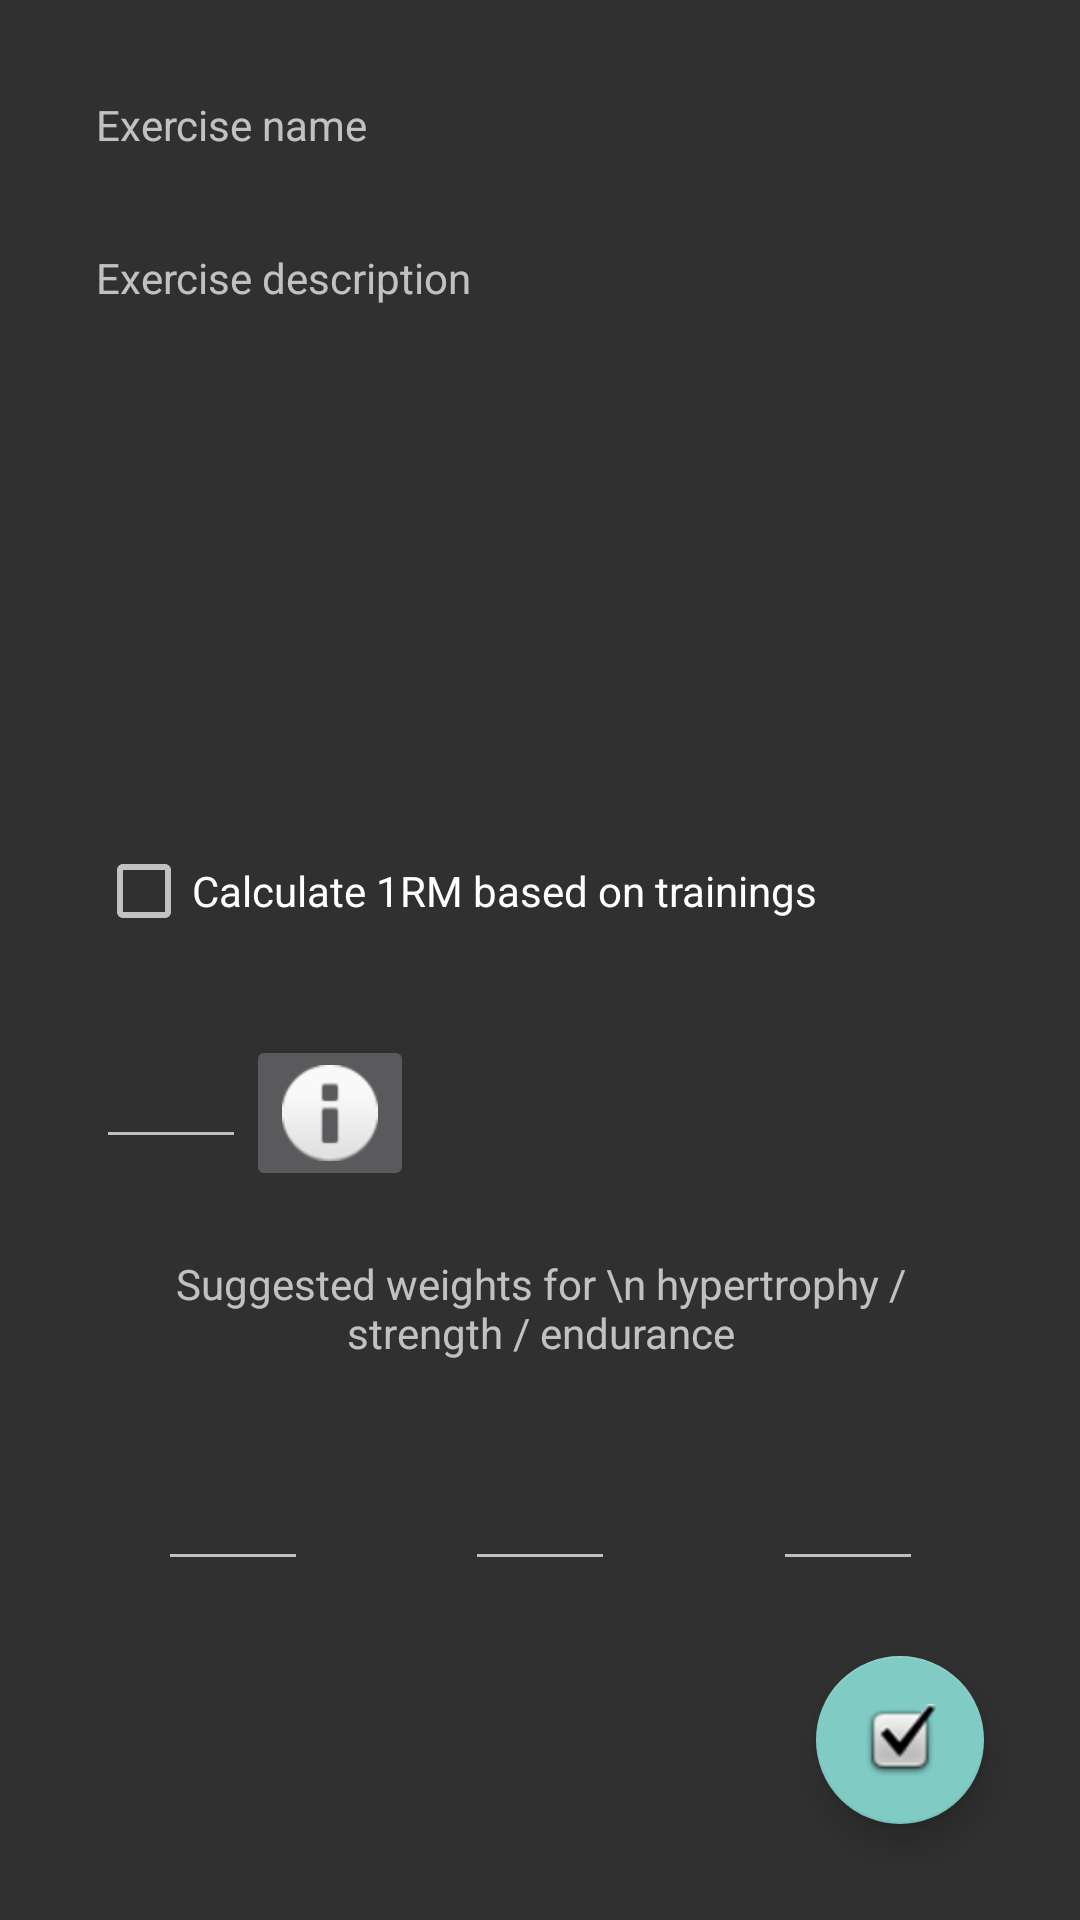

Locate icon controls on the screen. Image size 1080 x 1920, boxes as (x1, y1, x2, y2).
info: (258, 1053, 402, 1173)
